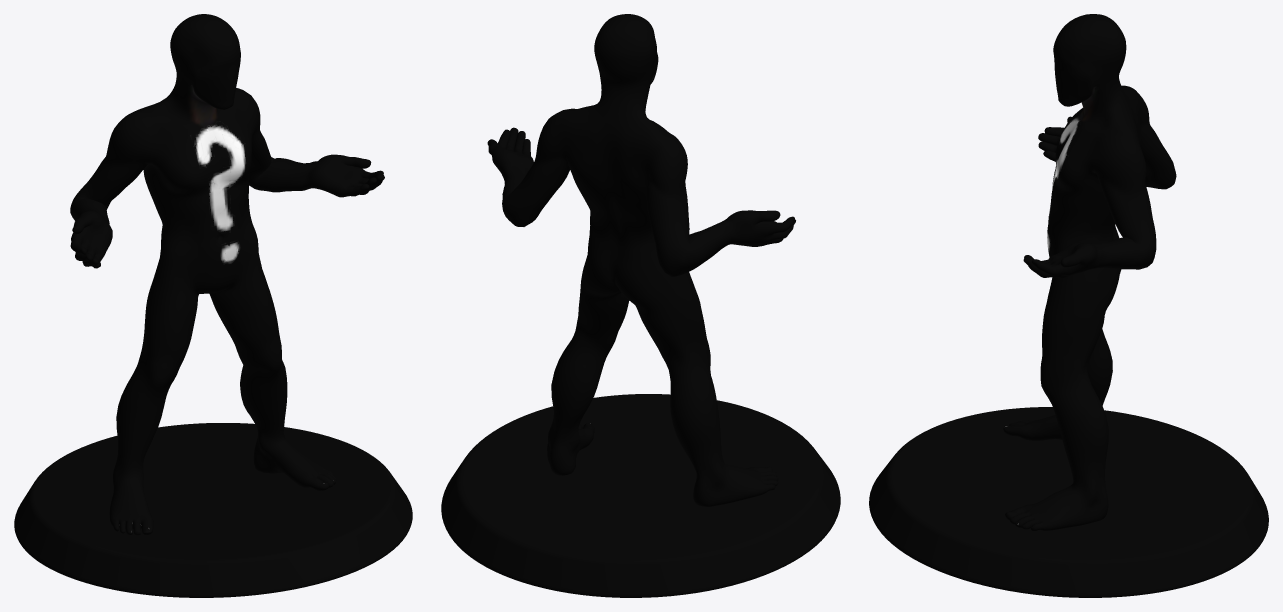
Rendered from Locked.glb.
The picture shows the model from 3 angles, left to right: view 1: azimuth 30°, elevation 25°; view 2: azimuth 150°, elevation 25°; view 3: azimuth 270°, elevation 25°; orthographic projection.
Parts seen in each view (by area): view 1: node_id5; view 2: node_id5; view 3: node_id5.
Boxes of the visible parts, x1,y1,x2,y2 form: node_id5: [14, 14, 412, 597]; node_id5: [441, 14, 840, 597]; node_id5: [869, 14, 1268, 597].
Size of the model in its own units: 0.3731 by 0.5208 by 0.3727.
1 material, 1 textured.
